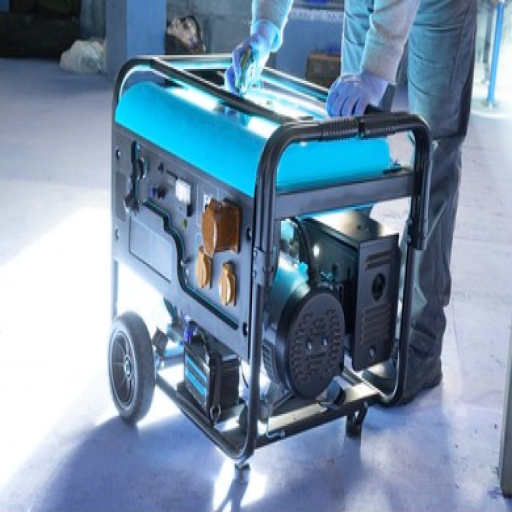portable_generator: (113, 53, 434, 464)
